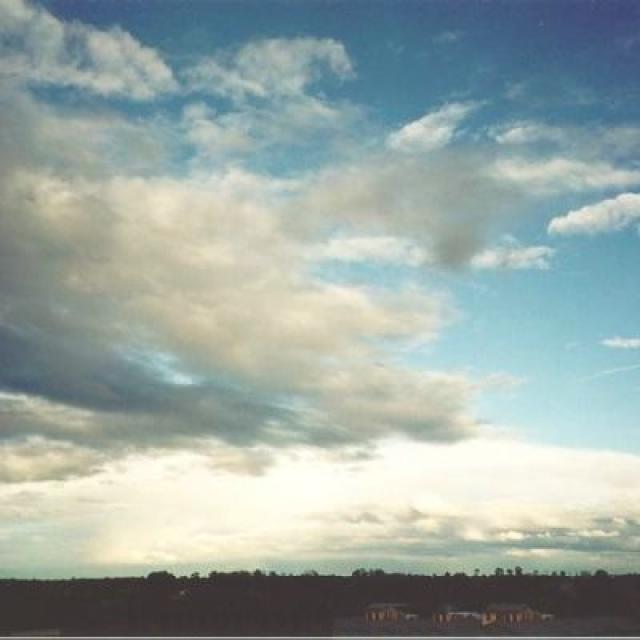Ns: (1, 87, 640, 466)
